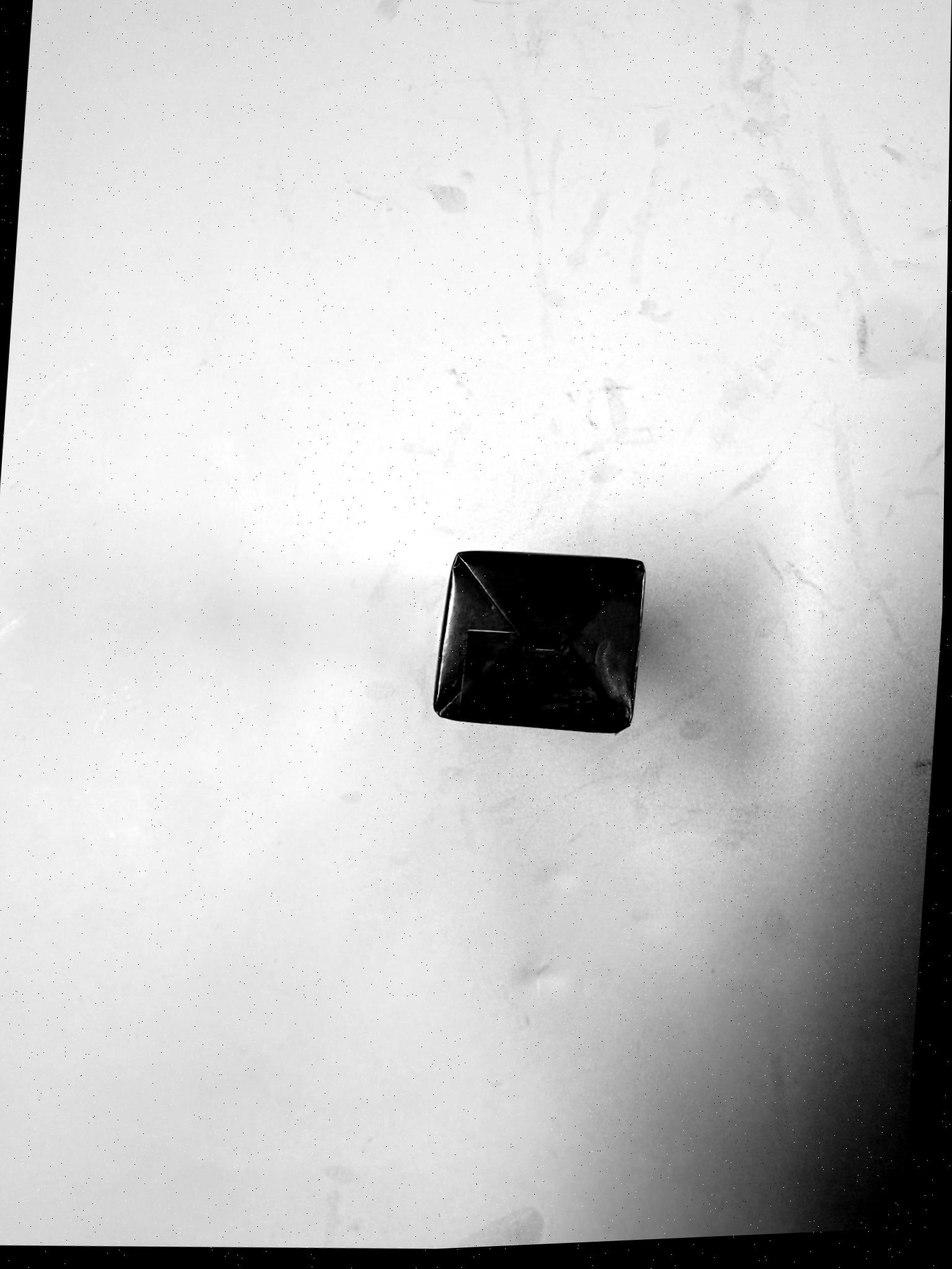gum_green: (432, 553, 641, 732)
